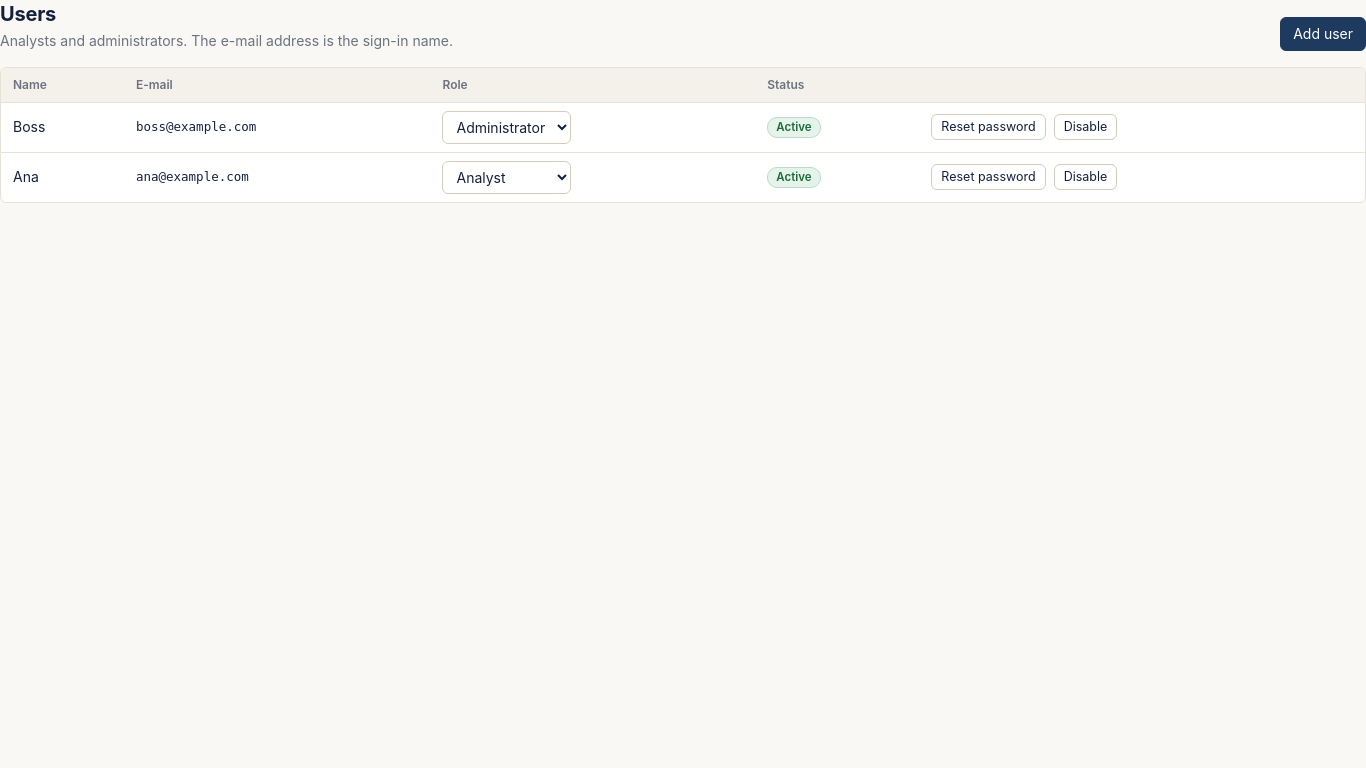
Test: users page › lets an administrator create a user and surfaces field errors
This screenshot has width=1366, height=768.
Click the button "Add user".
click(1323, 34)  # box [1280,17,1365,51]
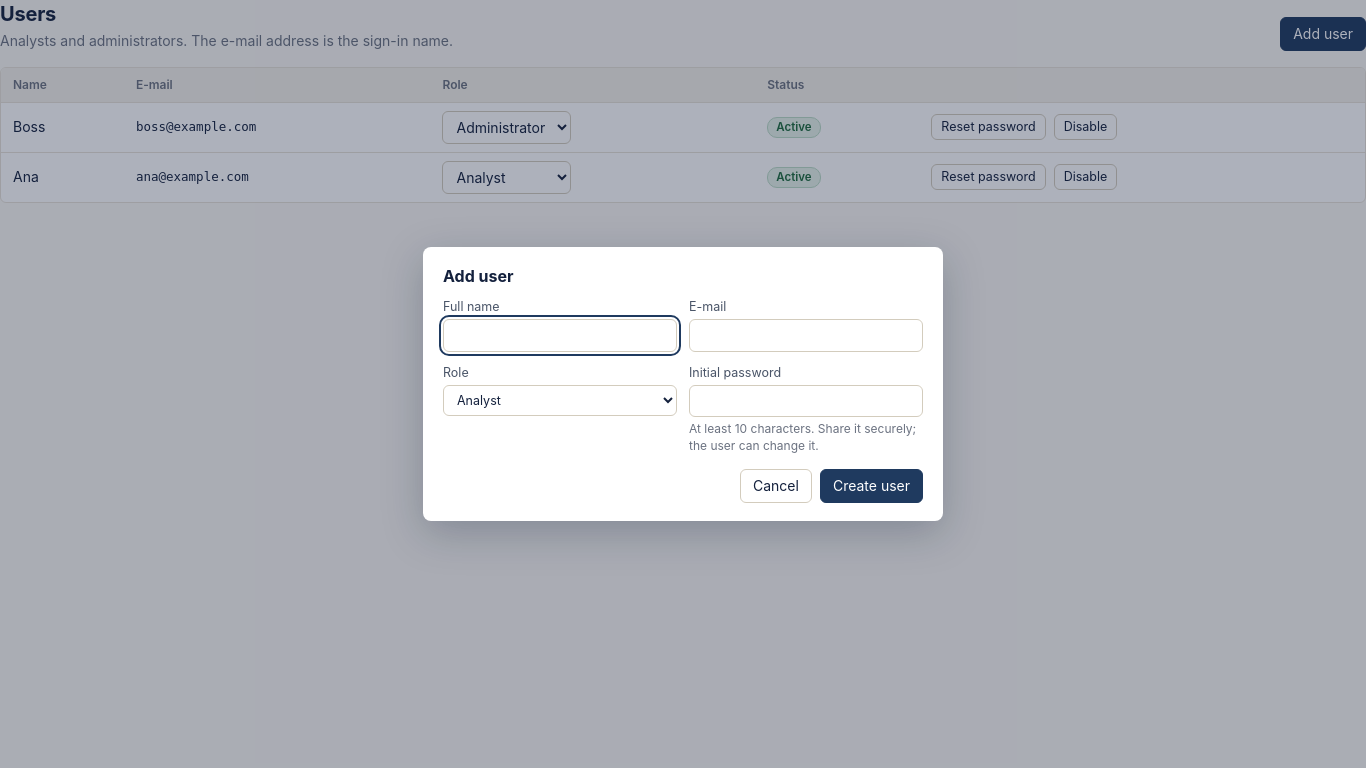
Type "New Person" into the field labelled "Full name".
click(560, 335); type("New Person")  # box [443,319,677,352]
Type "new@example.com" into the field labelled "E-mail".
click(806, 335); type("new@example.com")  # box [689,319,923,352]
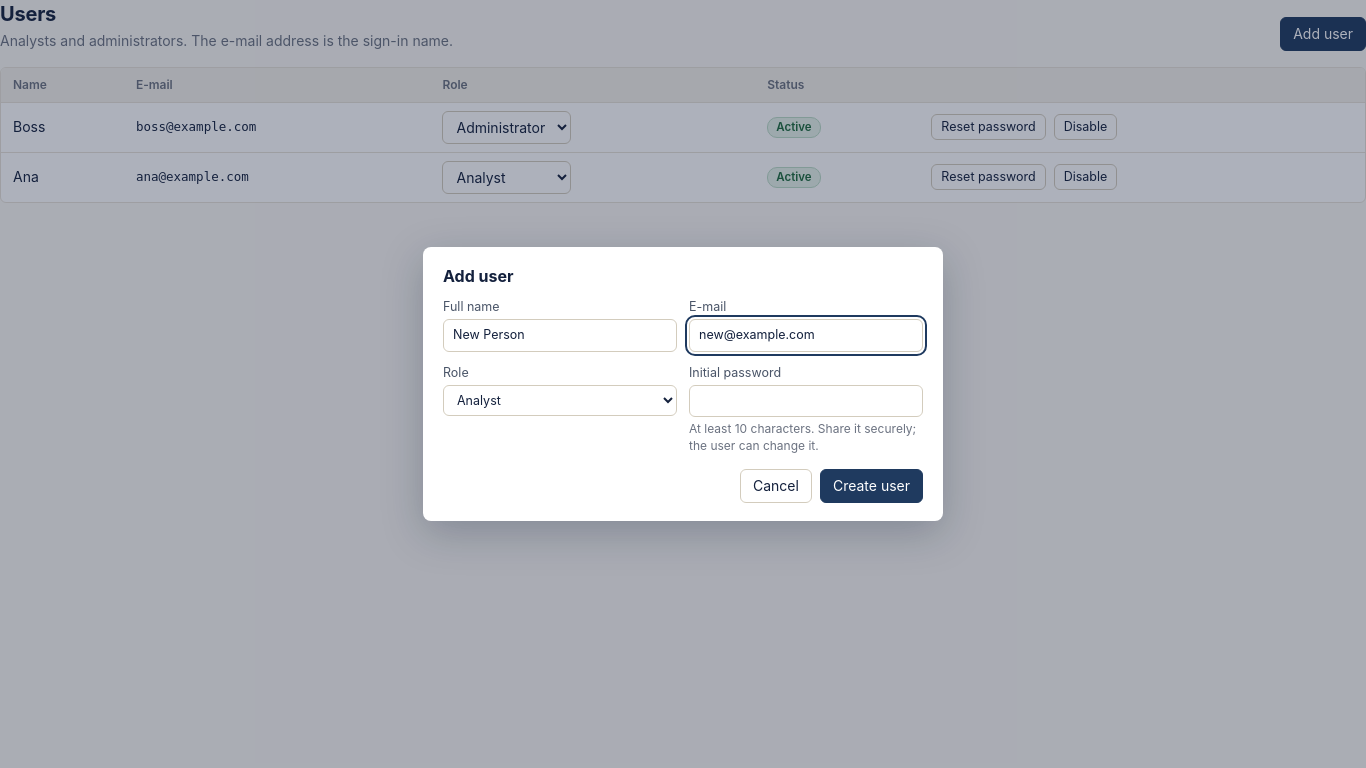
Type "short" into the password field labelled "Initial password".
click(806, 401); type("short")  # box [689,385,923,417]
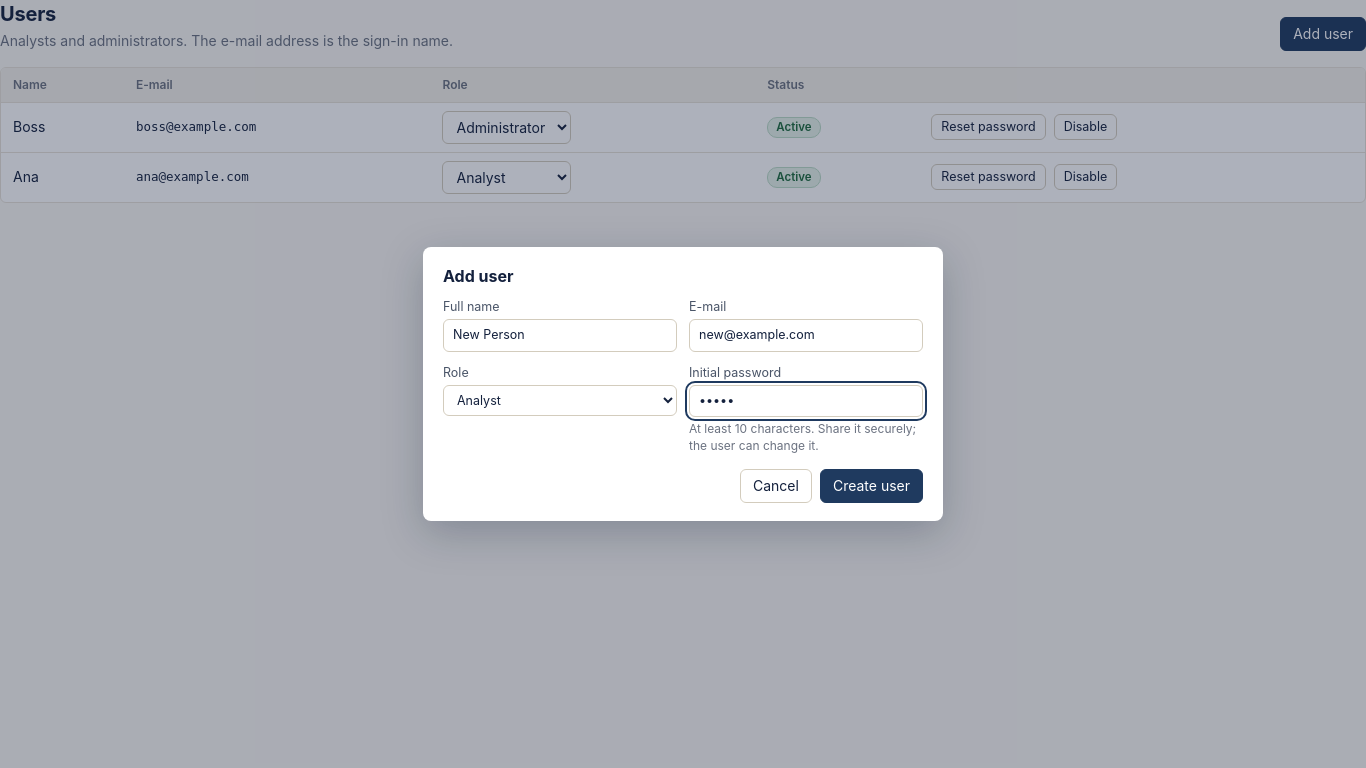
Click the button "Create user".
click(871, 486)  # box [820,469,923,503]
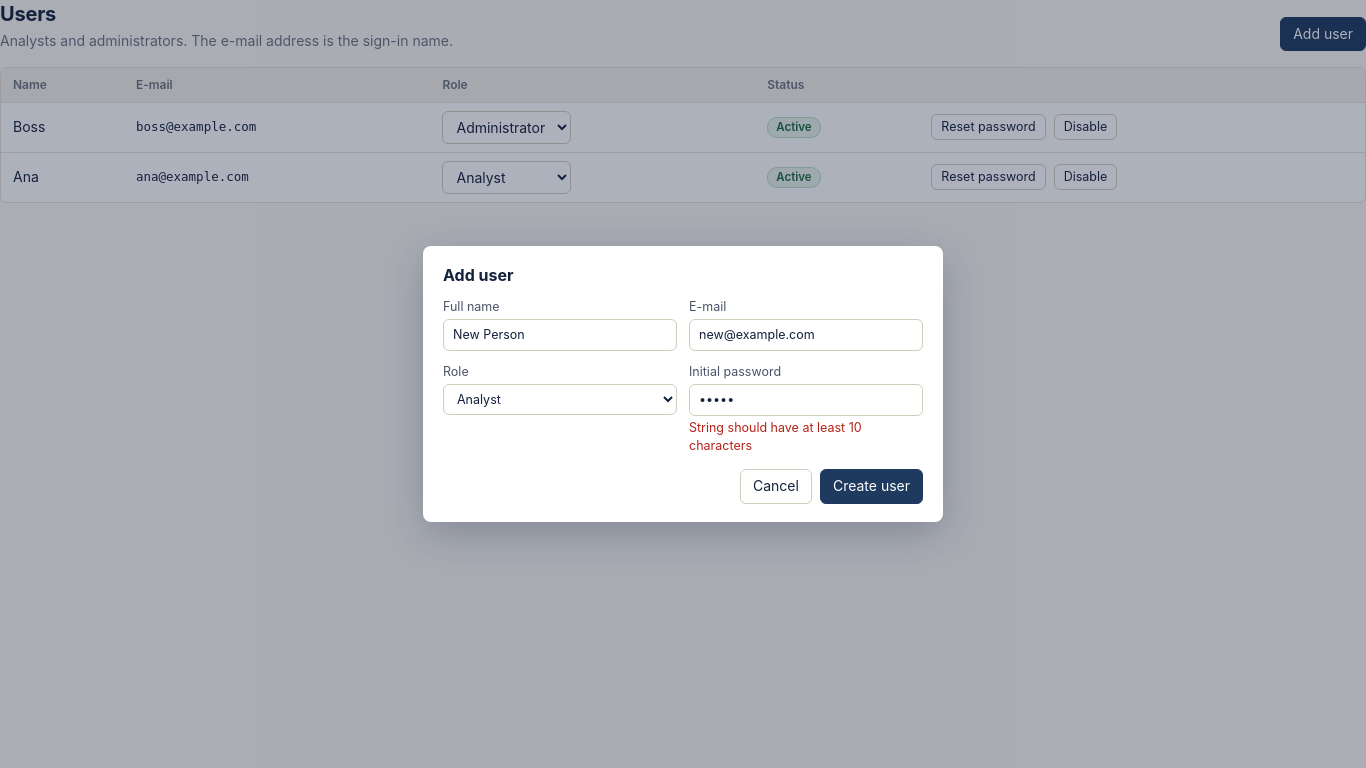
Check: the text "String should have at least 10 characters" is shown, box [689,420,862,453]
Type "-long-enough" into the password field labelled "Initial password String should have at least 10 characters".
click(806, 400); type("-long-enough")  # box [689,384,923,416]
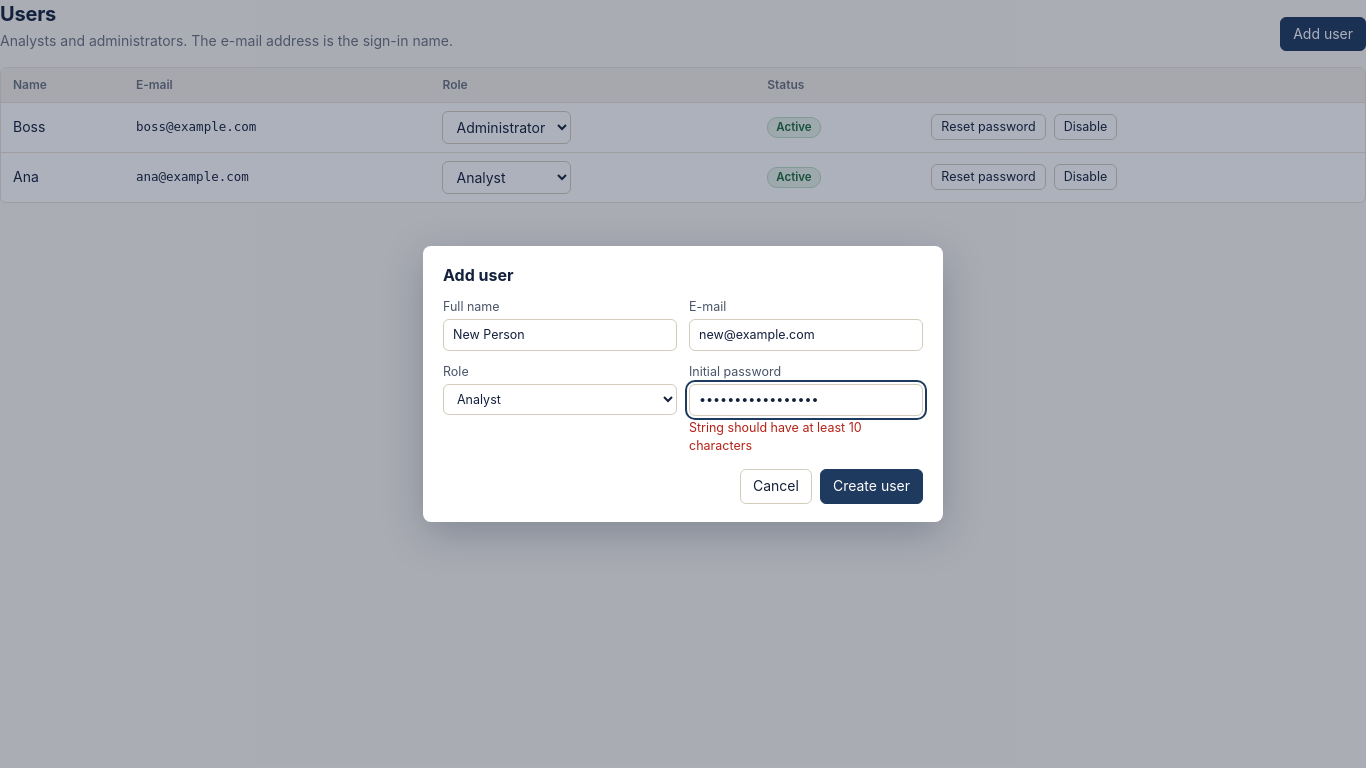
Click the button "Create user".
click(871, 486)  # box [820,469,923,504]
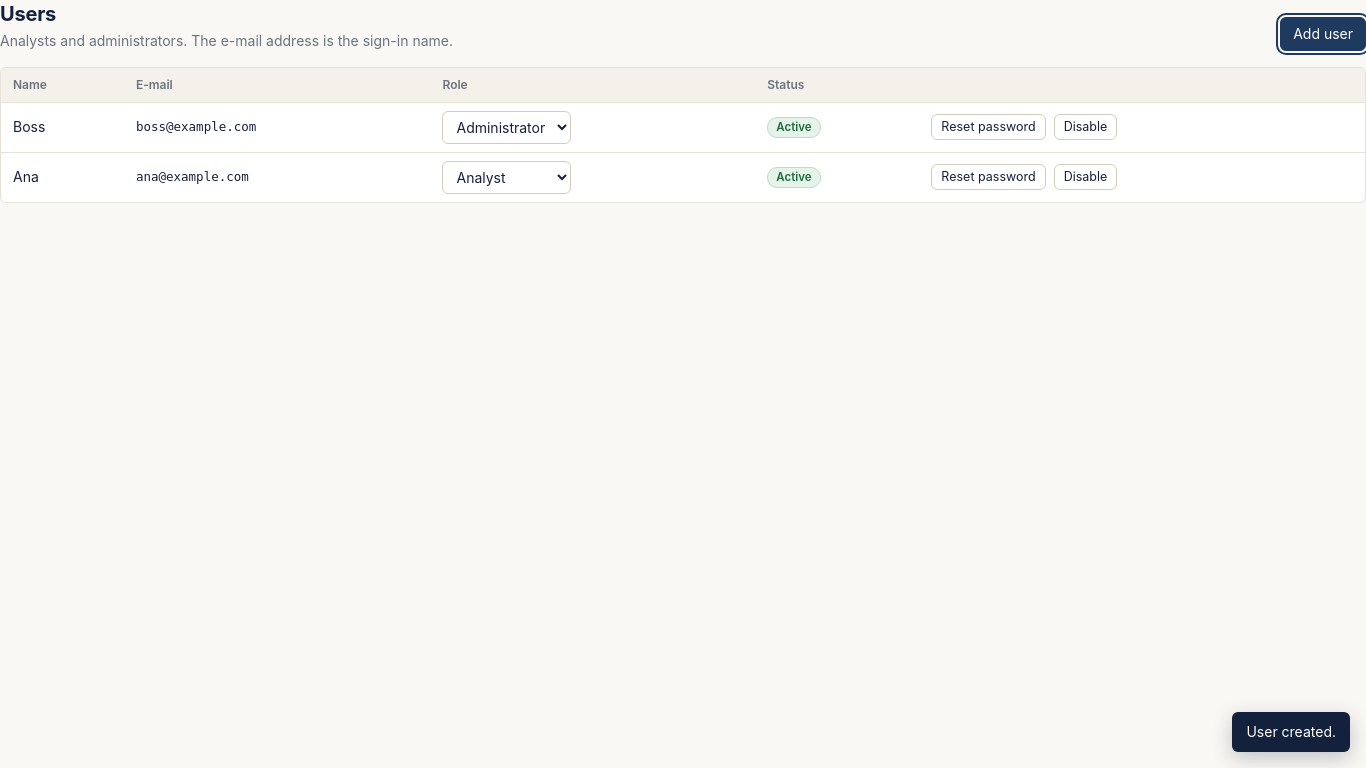
Check: the dialog is gone
